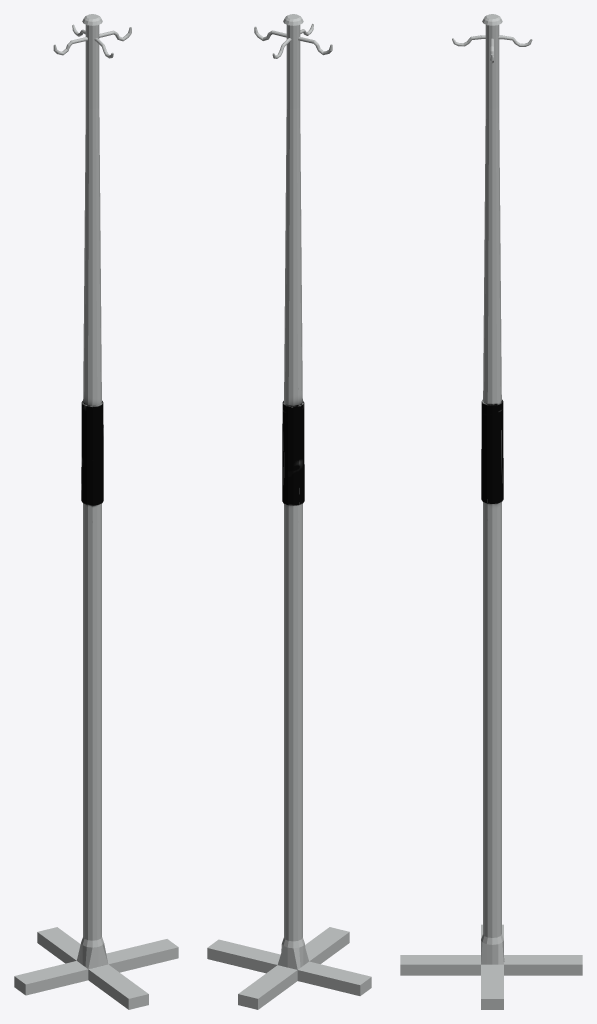
Rendered from SoroTexture.fbx.
3 views of the same model, side by side, from view 1: azimuth 30°, elevation 25°; view 2: azimuth 150°, elevation 25°; view 3: azimuth 270°, elevation 25° (orthographic).
Visible parts, largest first — view 1: Cylinder; view 2: Cylinder; view 3: Cylinder.
Boxes of the visible parts, x1=… form: Cylinder: x1=14, y1=14, x2=178, y2=1009; Cylinder: x1=207, y1=14, x2=371, y2=1009; Cylinder: x1=400, y1=14, x2=582, y2=1009.
Size of the model in its own units: 1870 by 11182 by 1939.
Materials: 1 (1 with a texture image).
